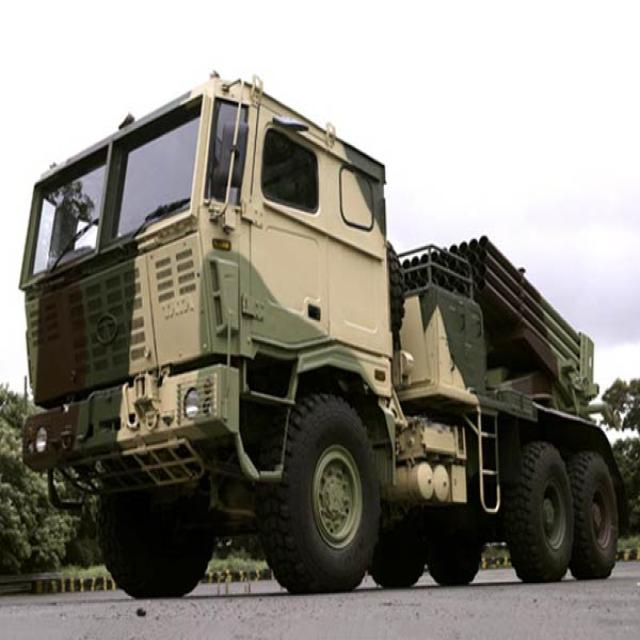truck: (20, 80, 629, 597)
